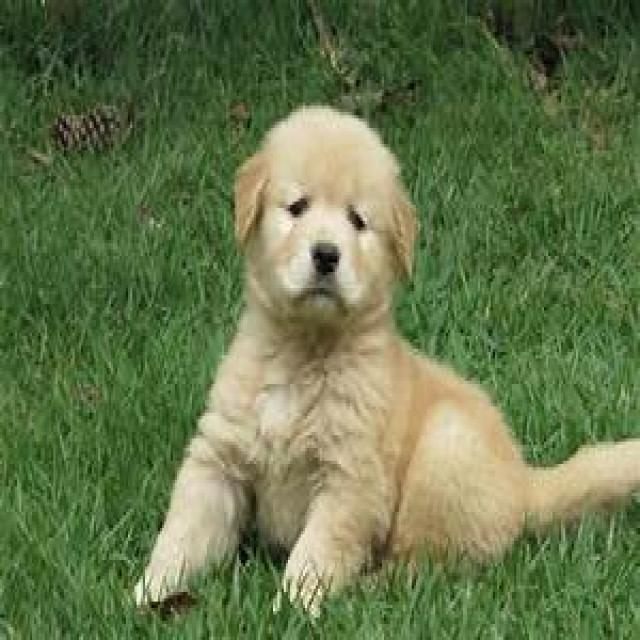dog: (134, 106, 640, 614)
